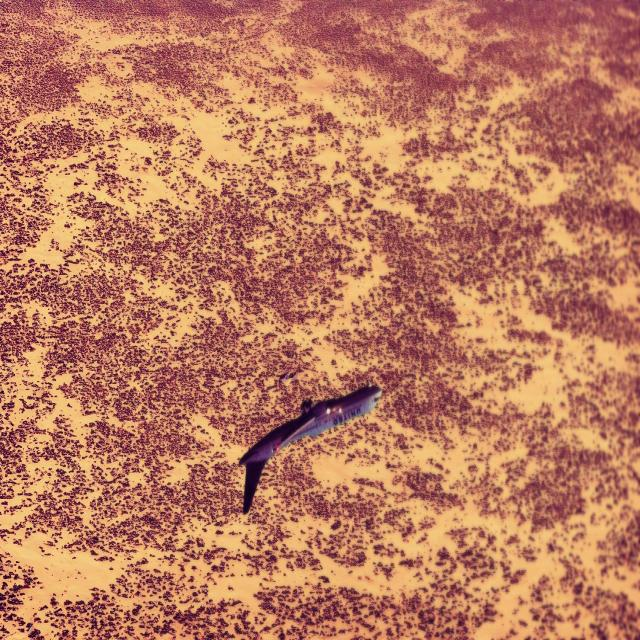airplane: (238, 383, 382, 515)
